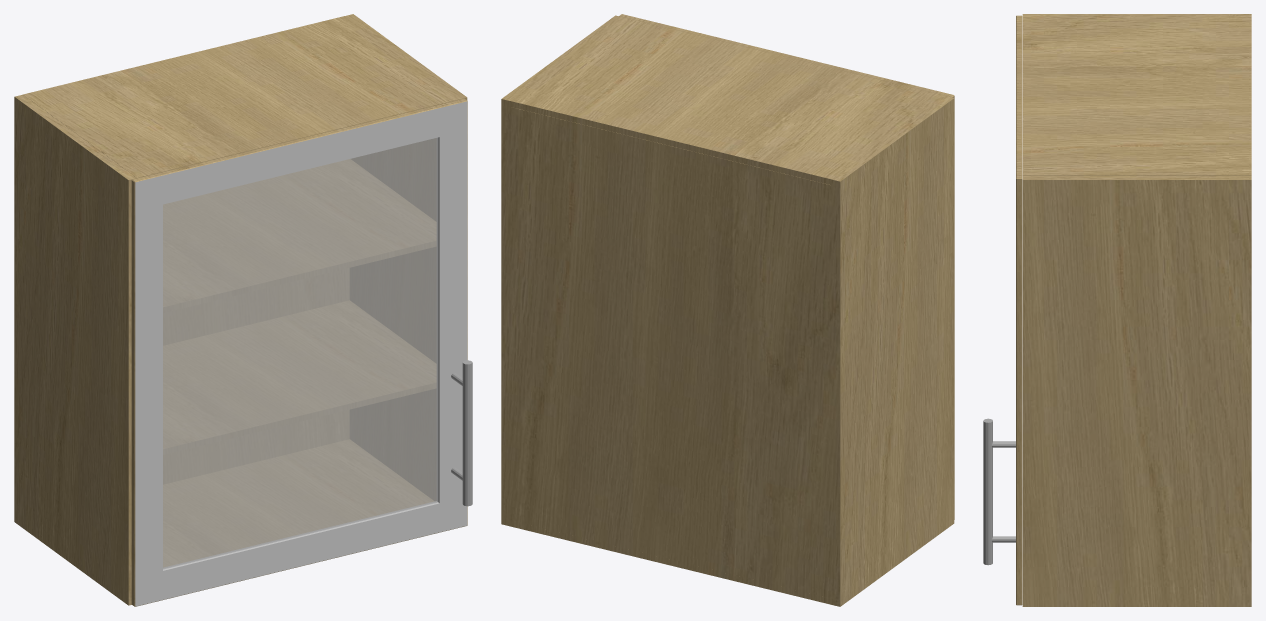
Rendered from glassDoorCabinet.obj.
3 renders of one model, left to right at view 1: azimuth 30°, elevation 25°; view 2: azimuth 150°, elevation 25°; view 3: azimuth 270°, elevation 25°, orthographic.
Parts seen in each view (by area): view 1: Cube.007_Cube.008; view 2: Cube.007_Cube.008; view 3: Cube.007_Cube.008.
Part boxes in pixels (x1,y1,x2,y2): Cube.007_Cube.008: (14,14,472,606); Cube.007_Cube.008: (501,14,954,606); Cube.007_Cube.008: (983,14,1251,606).
Bounding box in the file's own units: 60 × 72 × 41.
Materials: 5 (2 with a texture image).
